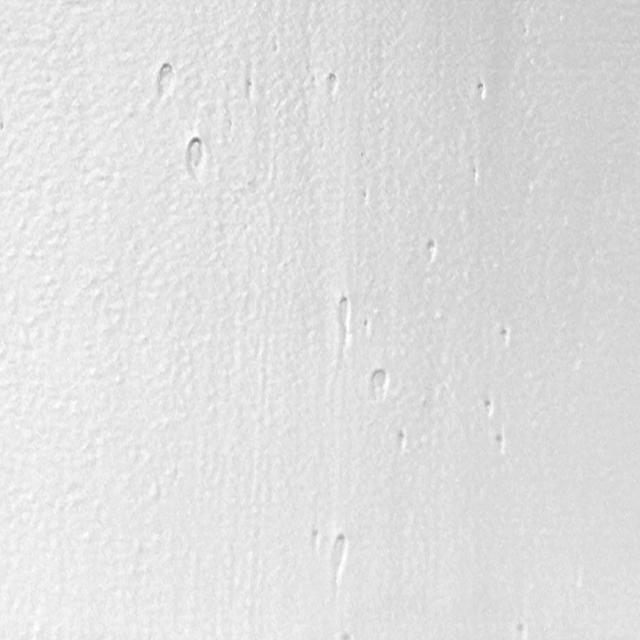pin holes: (181, 137, 208, 179), (326, 533, 349, 578), (330, 296, 352, 341), (153, 61, 178, 98), (367, 368, 390, 399), (322, 71, 342, 98), (421, 238, 439, 266), (494, 324, 514, 348), (491, 431, 508, 456), (359, 314, 375, 340), (241, 76, 257, 101), (473, 80, 490, 102), (466, 163, 482, 186), (308, 526, 322, 552), (481, 396, 496, 420), (513, 621, 528, 640), (396, 430, 409, 451), (360, 188, 372, 208), (340, 629, 354, 639), (0, 120, 8, 134)
